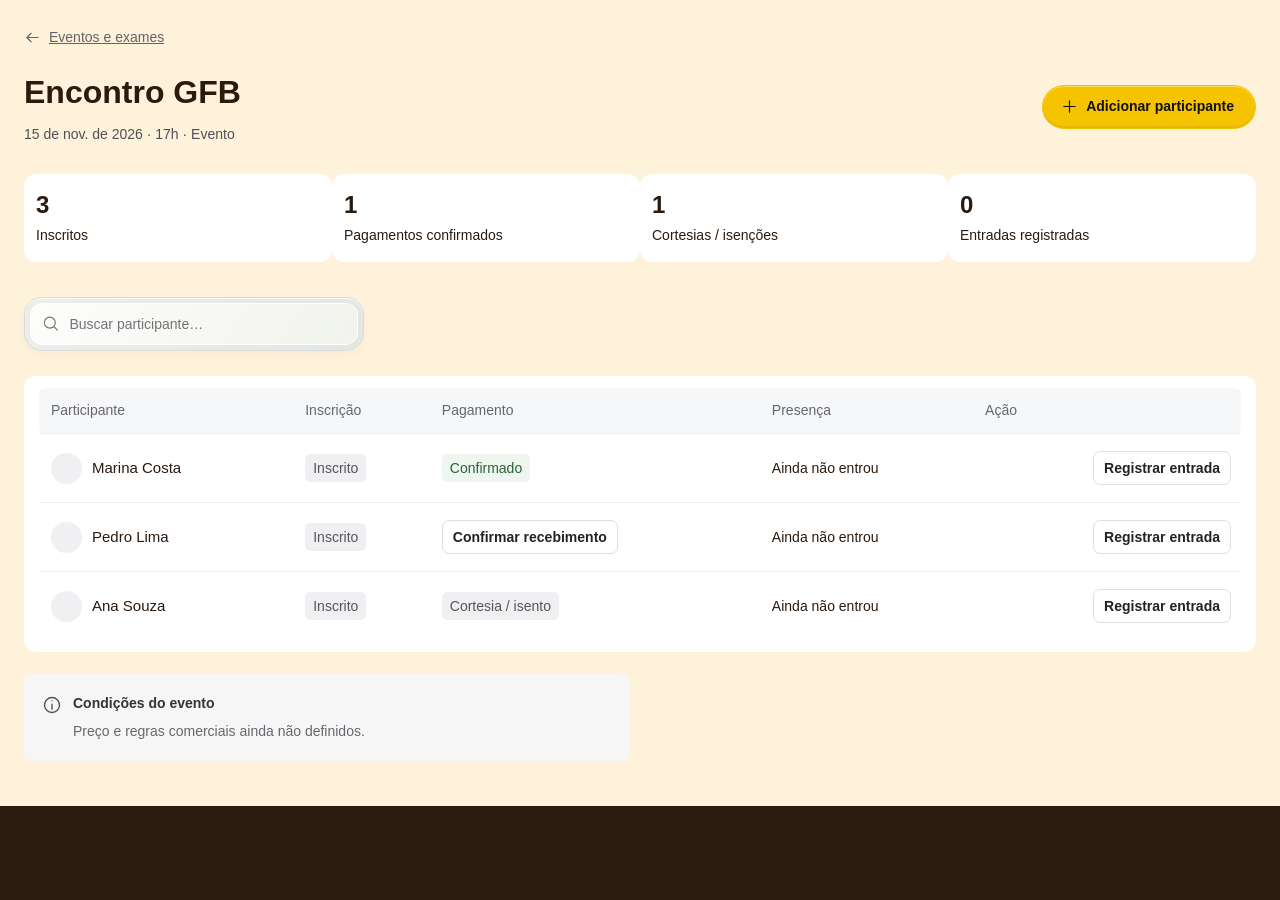
Test: keeps receipt and entry actions on the correct participant record
The image size is (1280, 900).
In the field labelled "Buscar participante": (207, 324) x1=69 y1=306 x2=345 y2=342, type "Pedro"
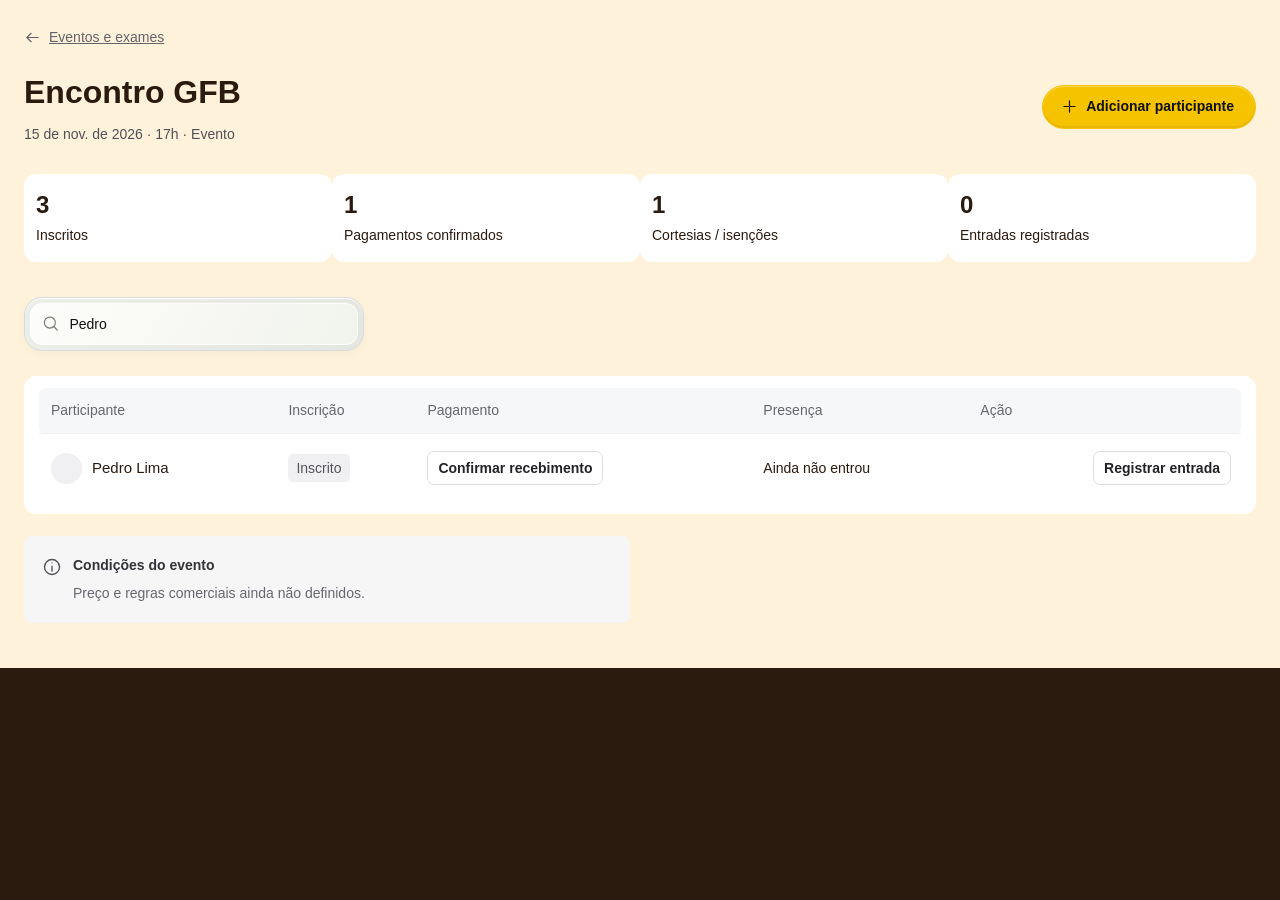
Expected: the button "Registrar entrada" is disabled, x1=1093 y1=451 x2=1231 y2=485
Click the button "Confirmar recebimento": (515, 468) x1=427 y1=451 x2=603 y2=485
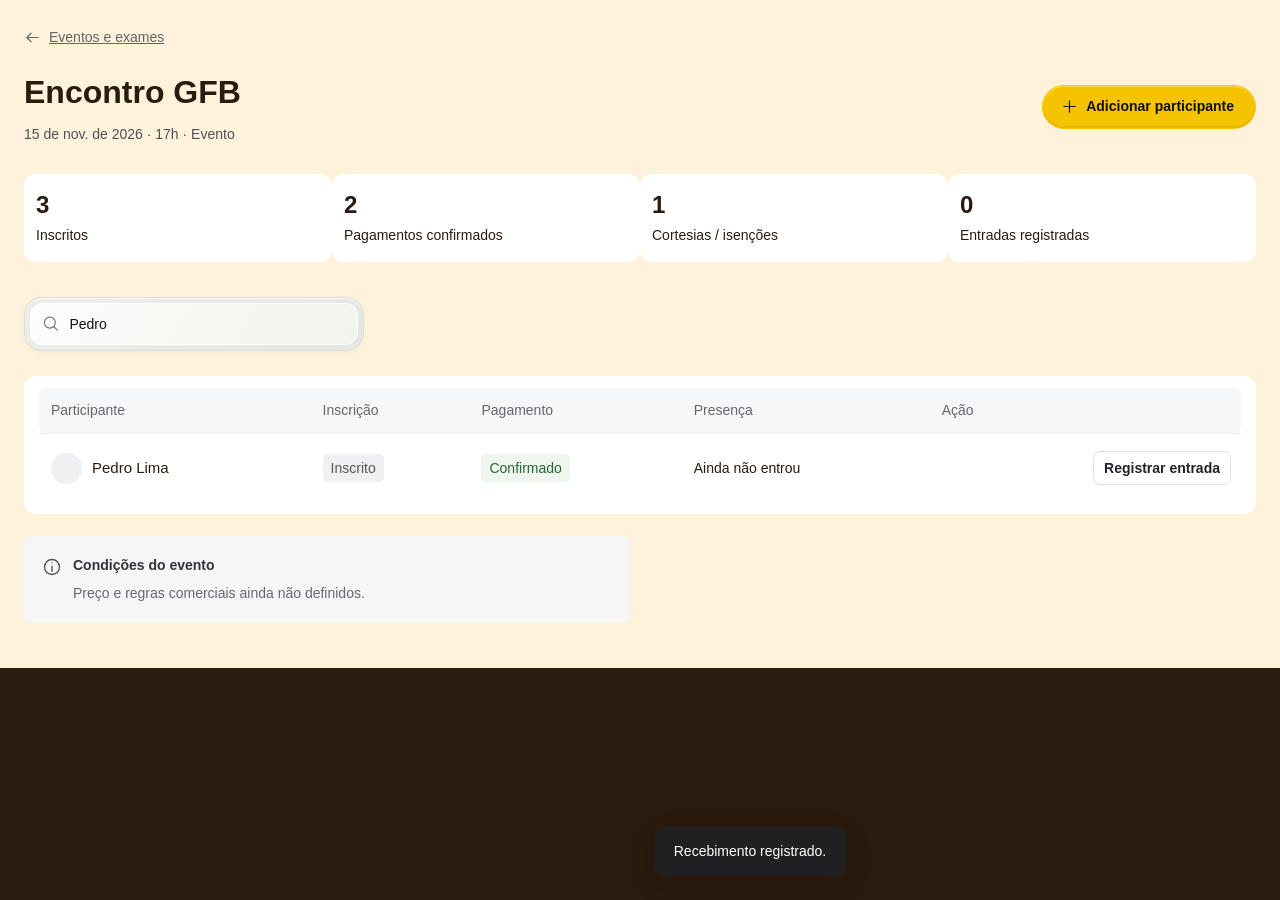
Click the button "Registrar entrada": (1162, 468) x1=1093 y1=451 x2=1231 y2=485
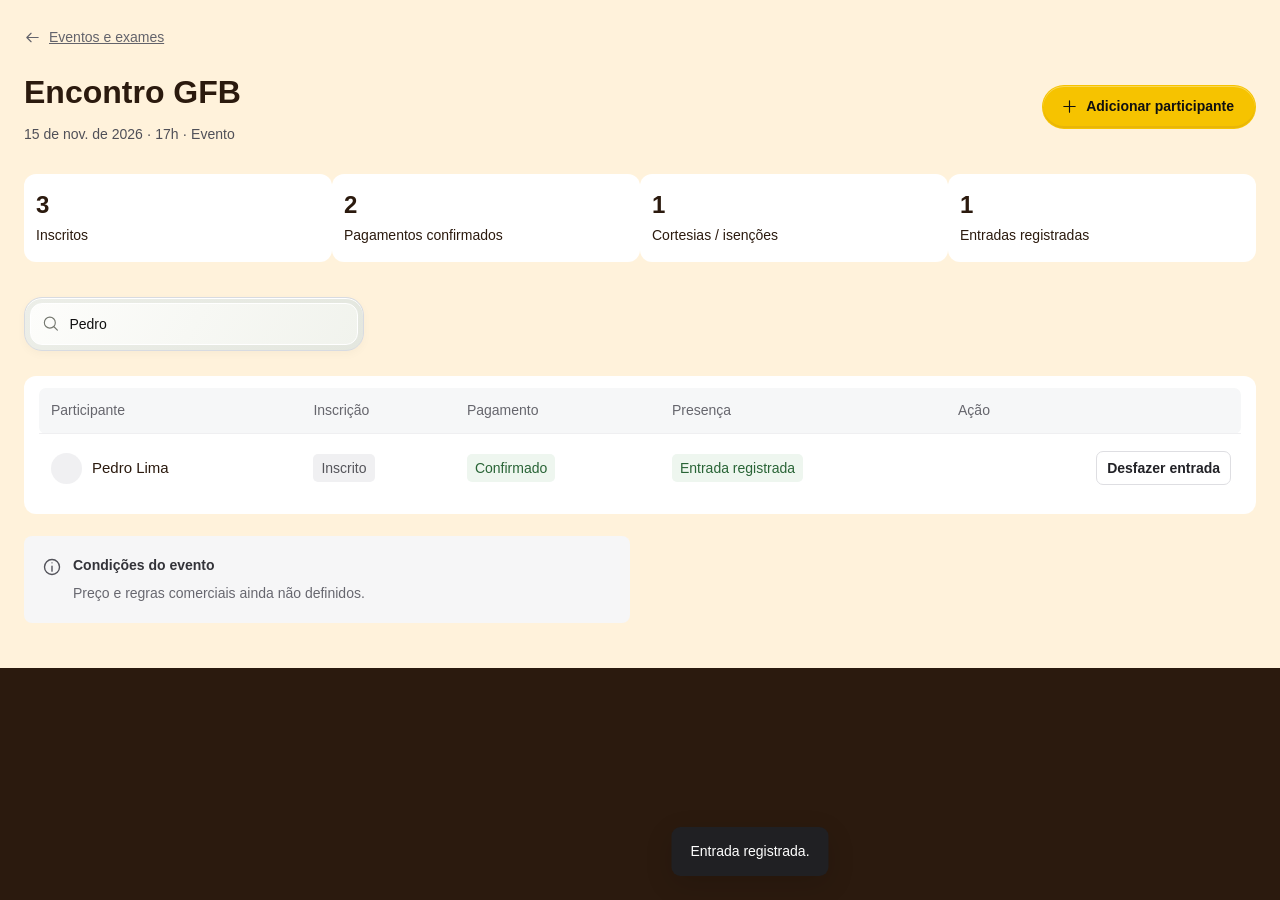
Expected: the button "Desfazer entrada" is enabled, x1=1096 y1=451 x2=1231 y2=485
Expected: the text "Entrada registrada" is shown, x1=672 y1=454 x2=803 y2=482
